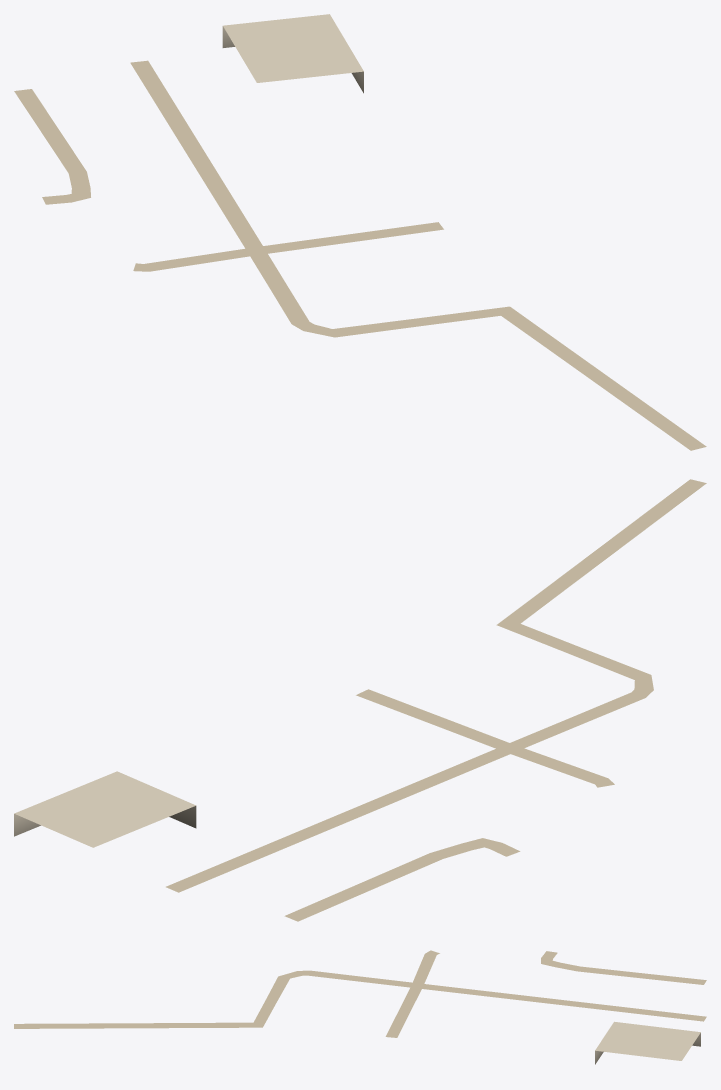
The picture shows the model from 3 angles, top to bottom: view 1: azimuth 30°, elevation 25°; view 2: azimuth 150°, elevation 25°; view 3: azimuth 270°, elevation 25°; orthographic projection. The views are drawn at different scales.
Parts seen in each view (by area): view 1: ground, building; view 2: ground, building; view 3: ground, building.
Part boxes in pixels (bbox=[...]): ground: bbox=[14, 60, 706, 450]; building: bbox=[222, 14, 363, 93]; ground: bbox=[166, 479, 706, 921]; building: bbox=[14, 771, 196, 847]; ground: bbox=[14, 950, 706, 1037]; building: bbox=[595, 1021, 700, 1064].
Size of the model in its own units: 145 by 8 by 346.
